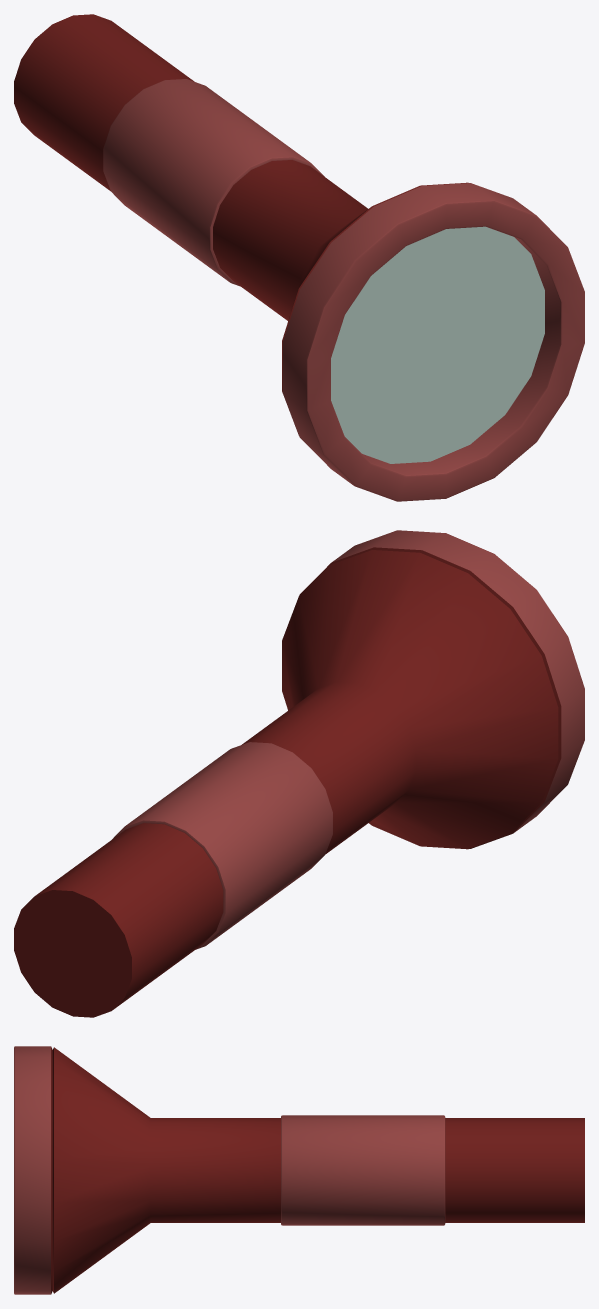
The model's file is Flashlight.FBX.
3 views of the same model, one above another, from view 1: azimuth 30°, elevation 25°; view 2: azimuth 150°, elevation 25°; view 3: azimuth 270°, elevation 25° (orthographic). The views are drawn at different scales.
Parts seen in each view (by area): view 1: Flashlight; view 2: Flashlight; view 3: Flashlight.
Part boxes in pixels (x1,y1,x2,y2): Flashlight: (14,14,584,501); Flashlight: (14,530,584,1017); Flashlight: (14,1046,584,1294).
Size of the model in its own units: 5.93 by 6.02 by 13.78.
